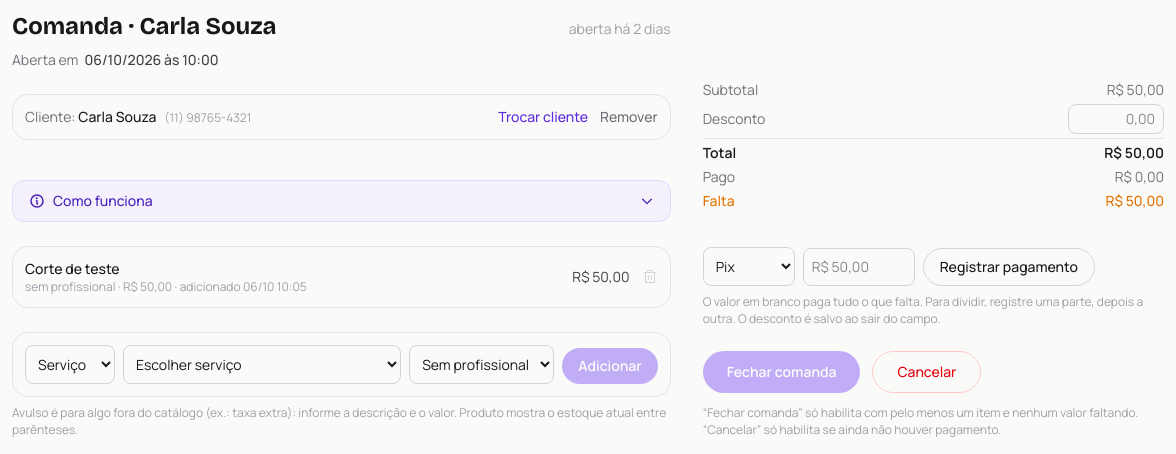
Test: TicketPdv › com cliente: 'Remover' desvincula (clientId null)
Click the button "Remover". click: point(629, 117)
box: [600,107,658,127]
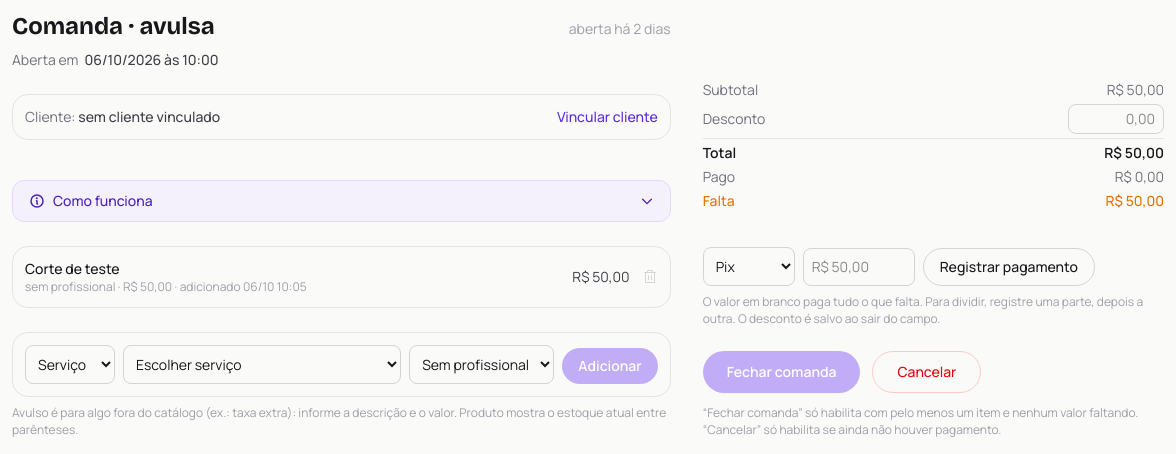
expect the text "sem cliente vinculado" is shown: met, box [78,107,220,126]
